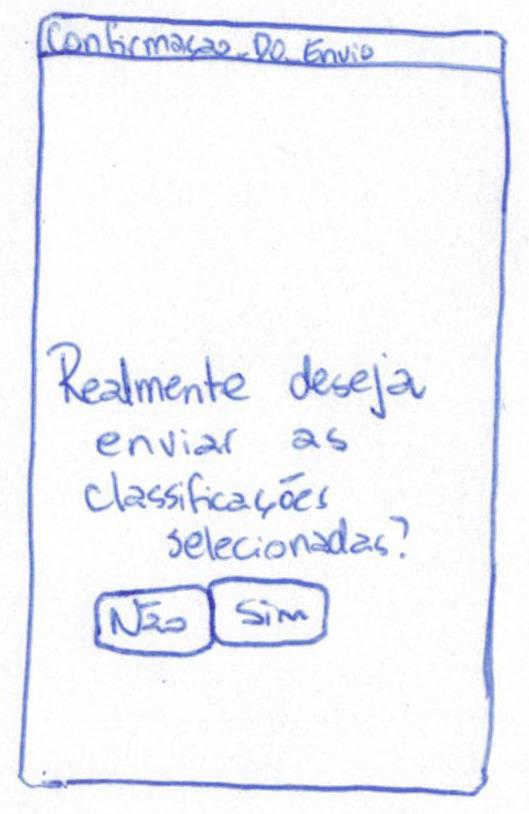Button: (90, 584, 212, 656), (212, 578, 329, 646)
Label: (47, 339, 428, 563), (46, 18, 375, 65)
Screen: (18, 13, 510, 796)
